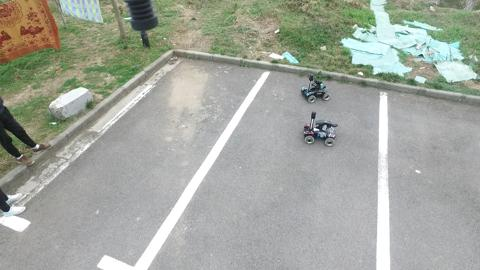chariot: (294, 111, 337, 150), (294, 75, 335, 104)
